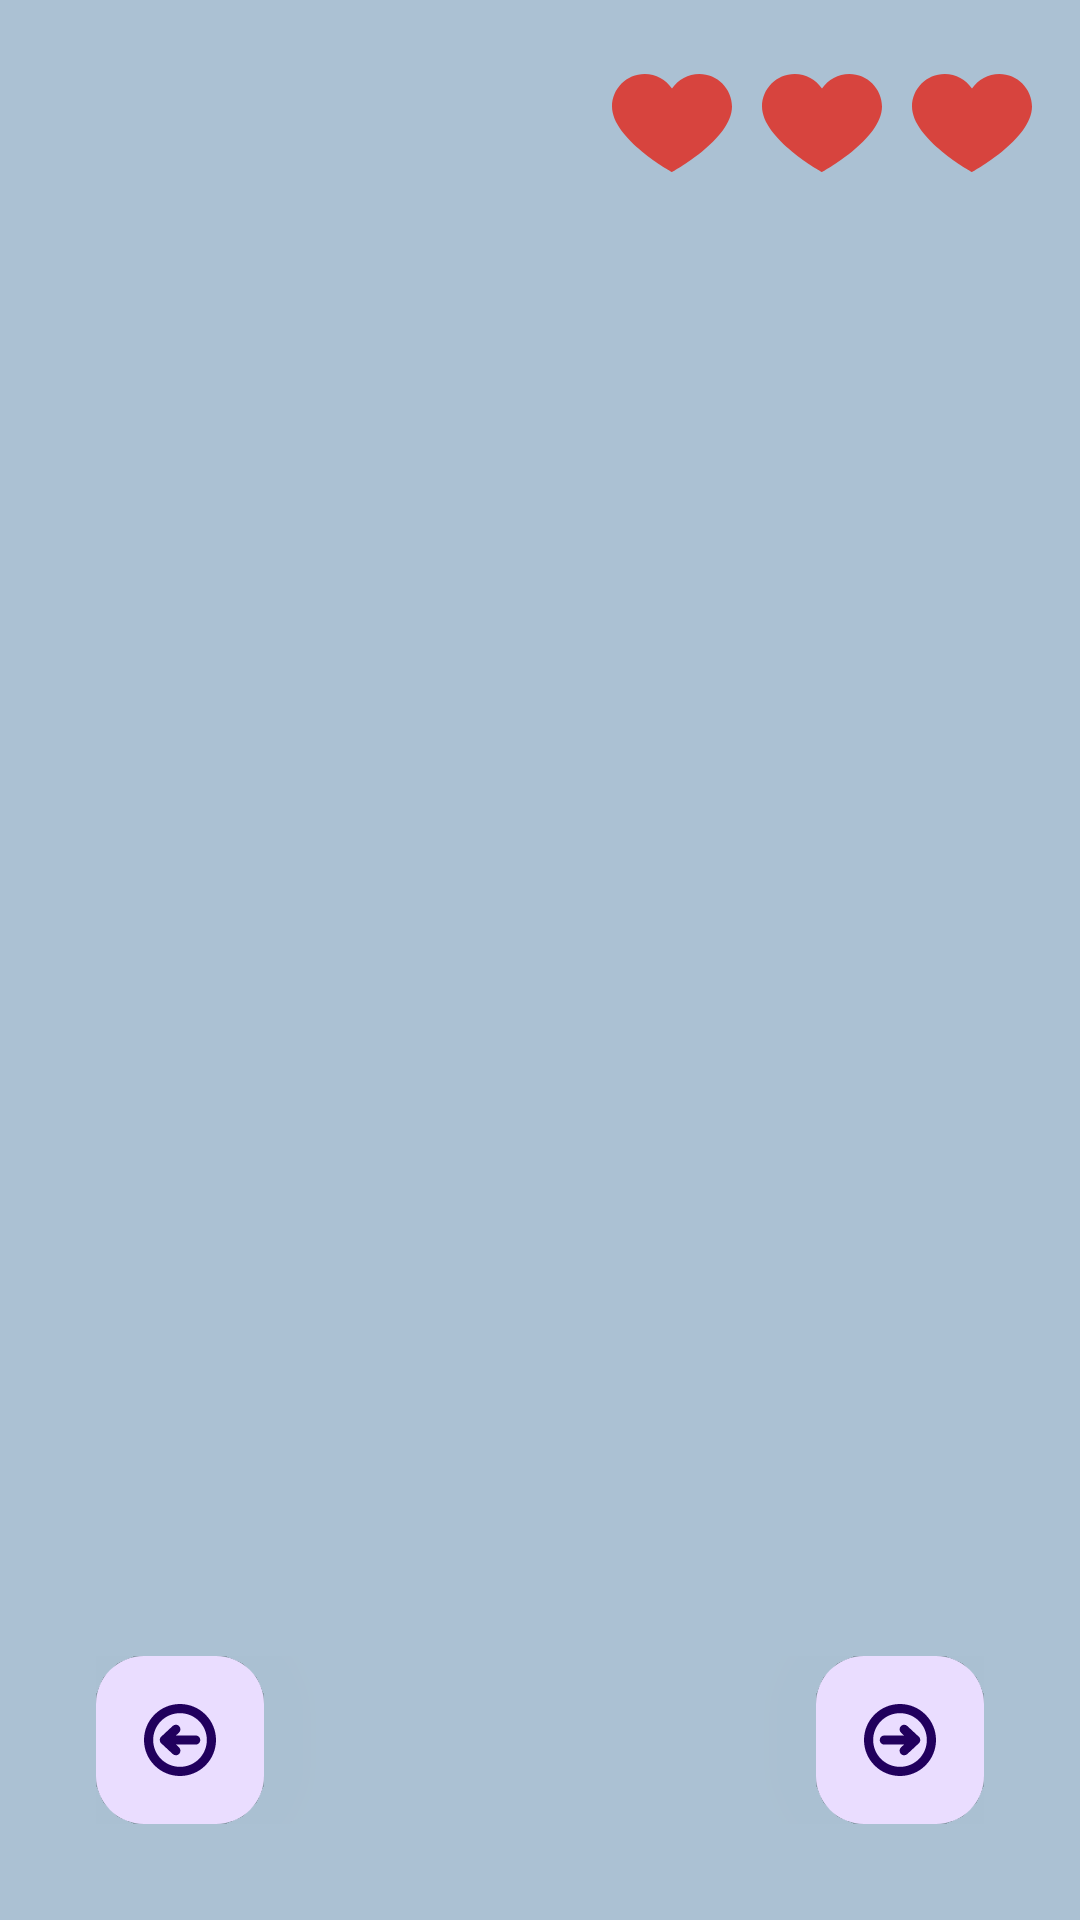

Icons on this 1080px x 1920px Android screen, each with its box as [x1,y1,x2,y2]:
heart: [612,74,732,172], [762,74,882,172], [912,74,1032,172]
left: [96,1656,264,1824]
right: [816,1656,984,1824]
